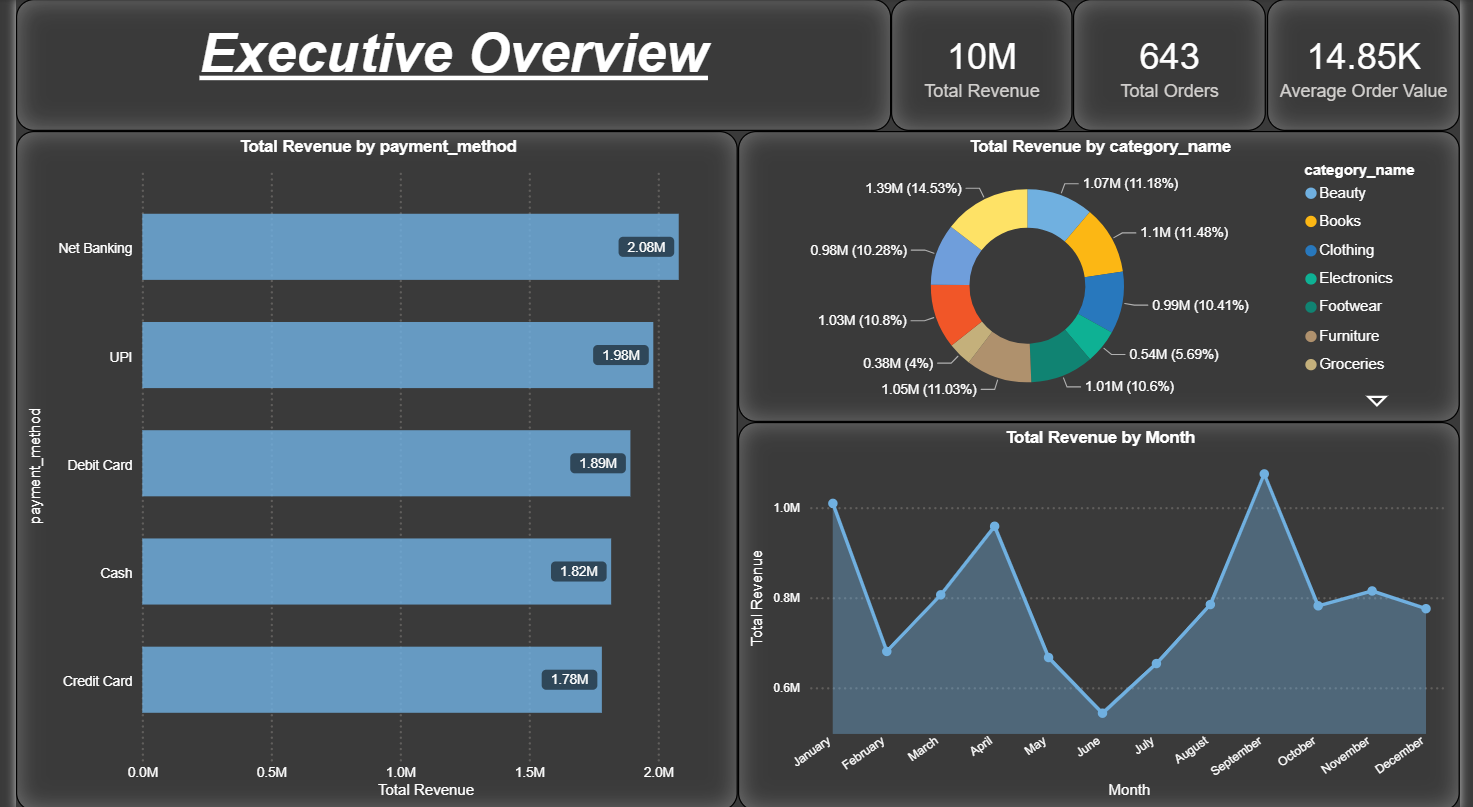

What the dashboard file says about the page in this screenshot:
{"tool":"powerbi","page":{"name":"Executive","canvas":[1280,720],"ordinal":0},"visuals":[{"type":"card","fields":{"Values":["sales_etl1 customers.Total Revenue"]},"box":[776.2,0,161.4,117],"z":0},{"type":"card","fields":{"Values":["sales_etl1 customers.Total Orders"]},"box":[937.6,0,171.4,117],"z":1000},{"type":"card","fields":{"Values":["sales_etl1 customers.Average Order Value"]},"box":[1109,0,171.4,117],"z":2000},{"type":"lineChart","fields":{"Y":["sales_etl1 customers.Total Revenue"],"Category":["sales_etl1 orders.order_date.Variation.Date Hierarchy.Month"]},"box":[640.2,375.4,640.2,344.6],"z":3000},{"type":"donutChart","fields":{"Y":["sales_etl1 customers.Total Revenue"],"Series":["sales_etl1 vw_sales_fact.category_name"]},"box":[640.2,117,640.2,258.4],"z":4000},{"type":"barChart","fields":{"Y":["sales_etl1 customers.Total Revenue"],"Category":["sales_etl1 orders.payment_method"]},"box":[0,117,640.2,603],"z":5000},{"type":"textbox","box":[0,0,776.2,117],"z":6000}]}

Visuals, with their boxes in screenshot pixels (x1, y1, x2, y2), scaled from the page's 1280x720 canvas onto the 1473x807 screenshot:
card - sales_etl1 customers.Total Revenue: [893,0,1079,131]
card - sales_etl1 customers.Total Orders: [1079,0,1276,131]
card - sales_etl1 customers.Average Order Value: [1276,0,1472,131]
lineChart - sales_etl1 customers.Total Revenue x sales_etl1 orders.order_date.Variation.Date Hierarchy.Month: [737,421,1472,806]
donutChart - sales_etl1 customers.Total Revenue x sales_etl1 vw_sales_fact.category_name: [737,131,1472,421]
barChart - sales_etl1 customers.Total Revenue x sales_etl1 orders.payment_method: [0,131,737,806]
textbox: [0,0,893,131]
